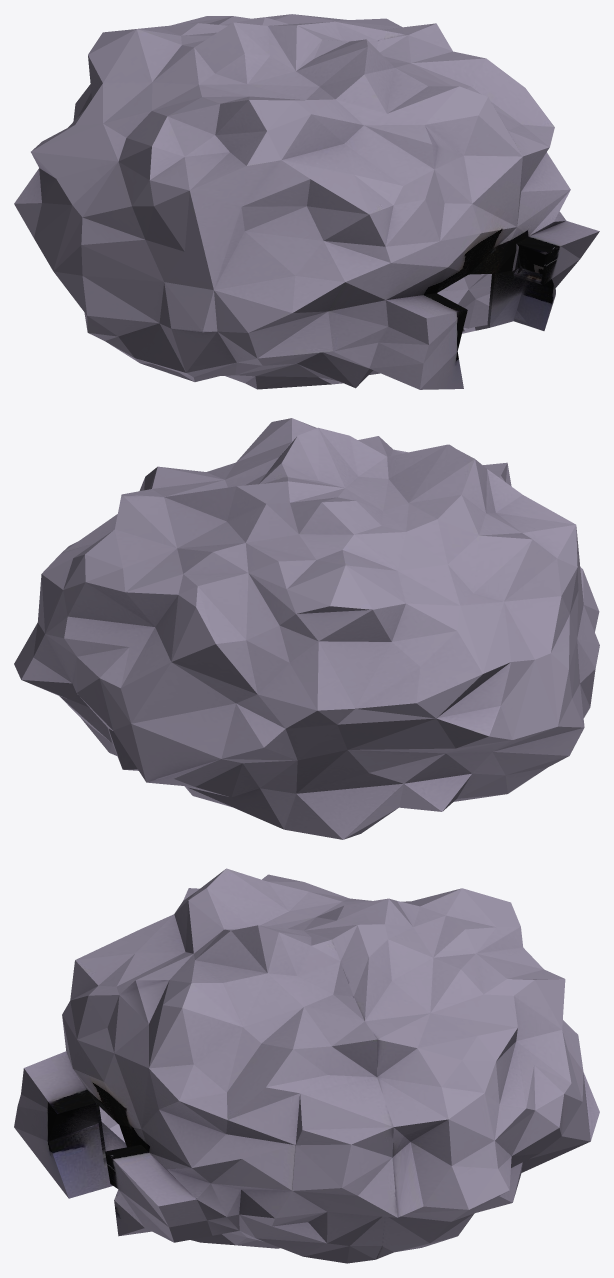
Rendered from templerock.glb.
The picture shows the model from 3 angles, top to bottom: view 1: azimuth 30°, elevation 25°; view 2: azimuth 150°, elevation 25°; view 3: azimuth 270°, elevation 25°; orthographic projection. The views are drawn at different scales.
Visible parts, largest first — view 1: Landscape.021; view 2: Landscape.021; view 3: Landscape.021.
Part boxes in pixels (x1,y1,x2,y2): Landscape.021: [14, 14, 599, 389]; Landscape.021: [14, 418, 599, 839]; Landscape.021: [14, 868, 599, 1263].
Size of the model in its own units: 68.06 by 42.69 by 72.68.
Materials: 1 (1 with a texture image).
